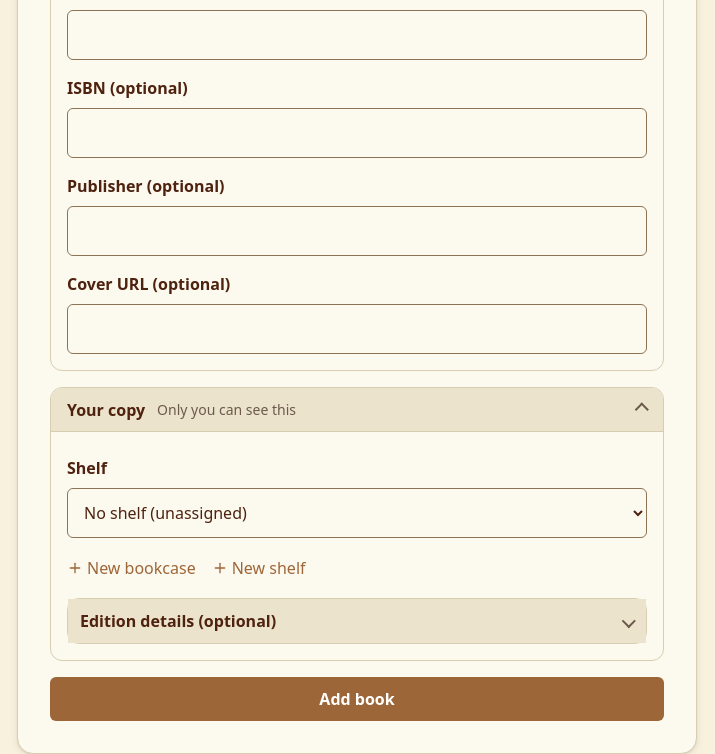
US-04: Add a book manually › CT-15 shows the title and author errors and sends nothing when they are empty
The width and height of the screenshot is (715, 754).
(page scrolled)
Step 1. Click the button "Add book" → (357, 699), box [50,677,664,721]
(page scrolled)
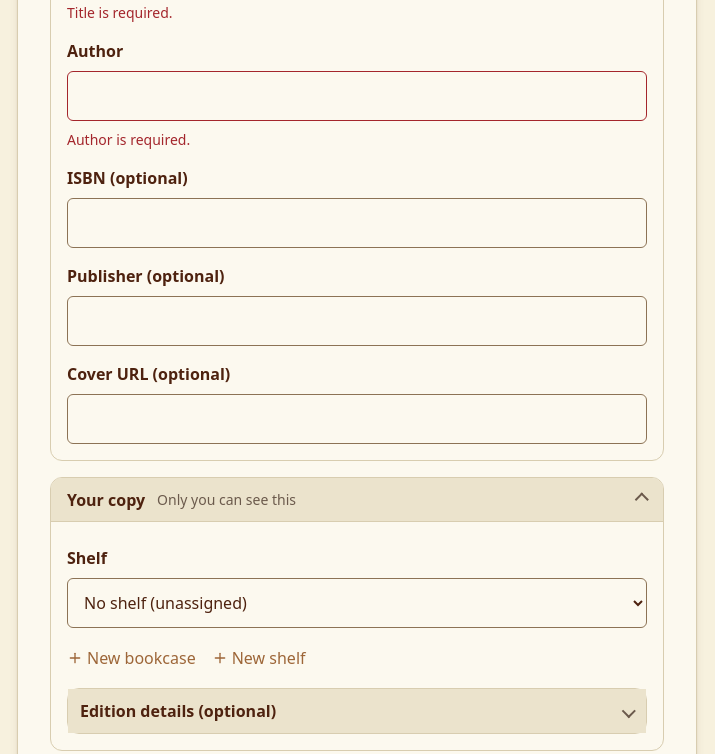
Now the text "Title is required." is shown, box [67,3,173,22]
Now the text "Author is required." is shown, box [67,130,190,149]
